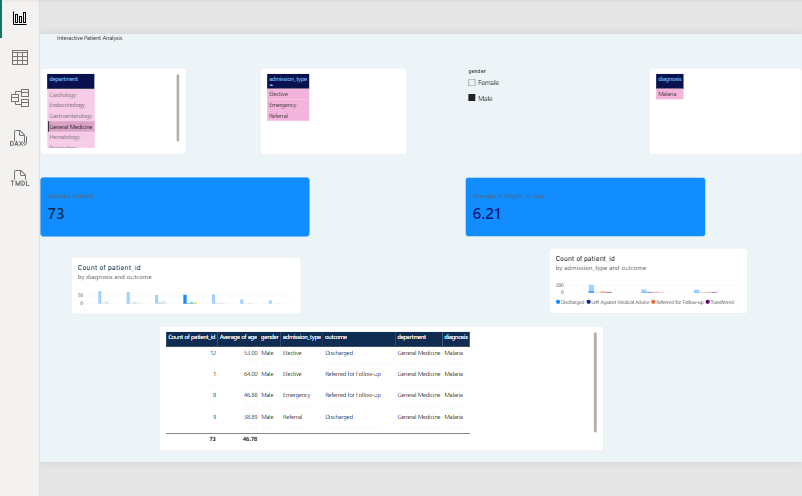

This screenshot's page, from the dashboard's own definition file:
{"tool":"powerbi","page":{"name":"Page 2","canvas":[1920,1080],"ordinal":1},"visuals":[{"type":"slicer","fields":{"Values":["hospital_patient_data.gender"]},"box":[1070.9,85.7,369.4,218.2],"z":0},{"type":"tableEx","fields":{"Values":["hospital_patient_data.department"]},"box":[0,85.7,369,218],"z":1000},{"type":"tableEx","fields":{"Values":["hospital_patient_data.admission_type"]},"box":[554.3,85.7,370.4,219.2],"z":2000},{"type":"tableEx","fields":{"Values":["hospital_patient_data.diagnosis"]},"box":[1534.5,85.7,385.5,219.2],"z":3000},{"type":"clusteredColumnChart","fields":{"Category":["hospital_patient_data.diagnosis"],"Series":["hospital_patient_data.outcome"],"Y":["CountNonNull(hospital_patient_data.patient_id)"]},"box":[78.1,561.9,579.5,143.6],"z":4000},{"type":"textbox","box":[43.2,0,369.4,86.4],"z":5000},{"type":"tableEx","fields":{"Values":["CountNonNull(hospital_patient_data.patient_id)","Avg(hospital_patient_data.age)","hospital_patient_data.gender","hospital_patient_data.admission_type","hospital_patient_data.outcome","hospital_patient_data.department","hospital_patient_data.diagnosis"]},"box":[299.8,735.7,1121.3,315],"z":6000},{"type":"cardVisual","fields":{"Data":["hospital_patient_data.Selected Patients"]},"box":[0,360.3,680.3,151.2],"z":7000},{"type":"cardVisual","fields":{"Data":["Avg(hospital_patient_data.length_of_stay)"]},"box":[1070.9,360.3,607.2,151.2],"z":8000},{"type":"clusteredColumnChart","fields":{"Category":["hospital_patient_data.admission_type"],"Series":["hospital_patient_data.outcome"],"Y":["CountNonNull(hospital_patient_data.patient_id)"]},"box":[1282.5,539.2,501.4,166.3],"z":9000}]}

Visuals, with their boxes on the page's 1920x1080 design canvas (x1, y1, x2, y2). These are canvas units, not pixel positions in the 802x496 screenshot, which may show the page scaled, cropped or inside an application window:
slicer - hospital_patient_data.gender: (1071,86,1440,304)
tableEx - hospital_patient_data.department: (0,86,369,304)
tableEx - hospital_patient_data.admission_type: (554,86,925,305)
tableEx - hospital_patient_data.diagnosis: (1534,86,1920,305)
clusteredColumnChart - hospital_patient_data.diagnosis x hospital_patient_data.outcome: (78,562,658,706)
textbox: (43,0,413,86)
tableEx - CountNonNull(hospital_patient_data.patient_id) x Avg(hospital_patient_data.age): (300,736,1421,1051)
cardVisual - hospital_patient_data.Selected Patients: (0,360,680,512)
cardVisual - Avg(hospital_patient_data.length_of_stay): (1071,360,1678,512)
clusteredColumnChart - hospital_patient_data.admission_type x hospital_patient_data.outcome: (1282,539,1784,706)
